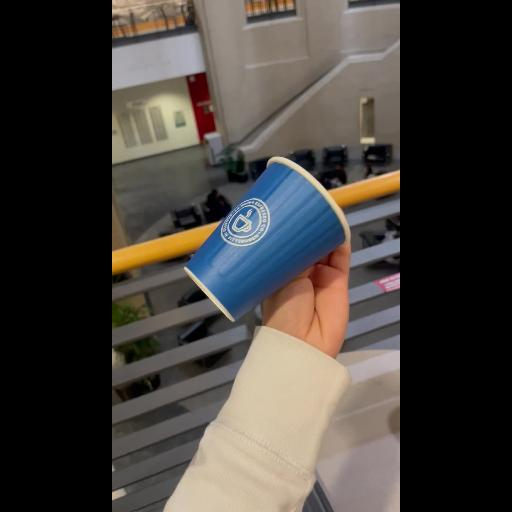lp_paper_cup: (183, 154, 351, 324)
